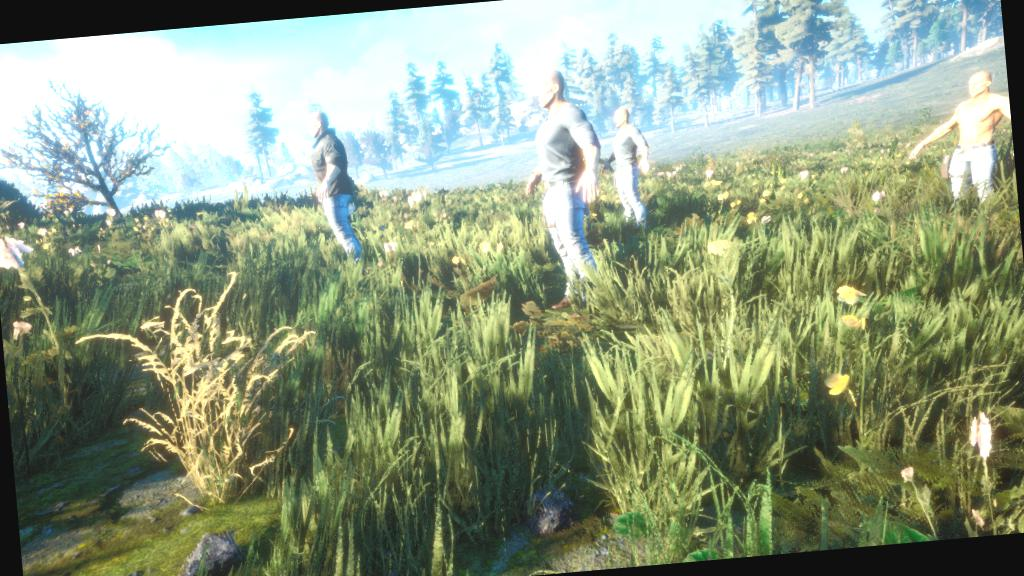human: (488, 45, 620, 328), (278, 82, 416, 310), (874, 44, 1019, 229), (601, 74, 673, 238)
